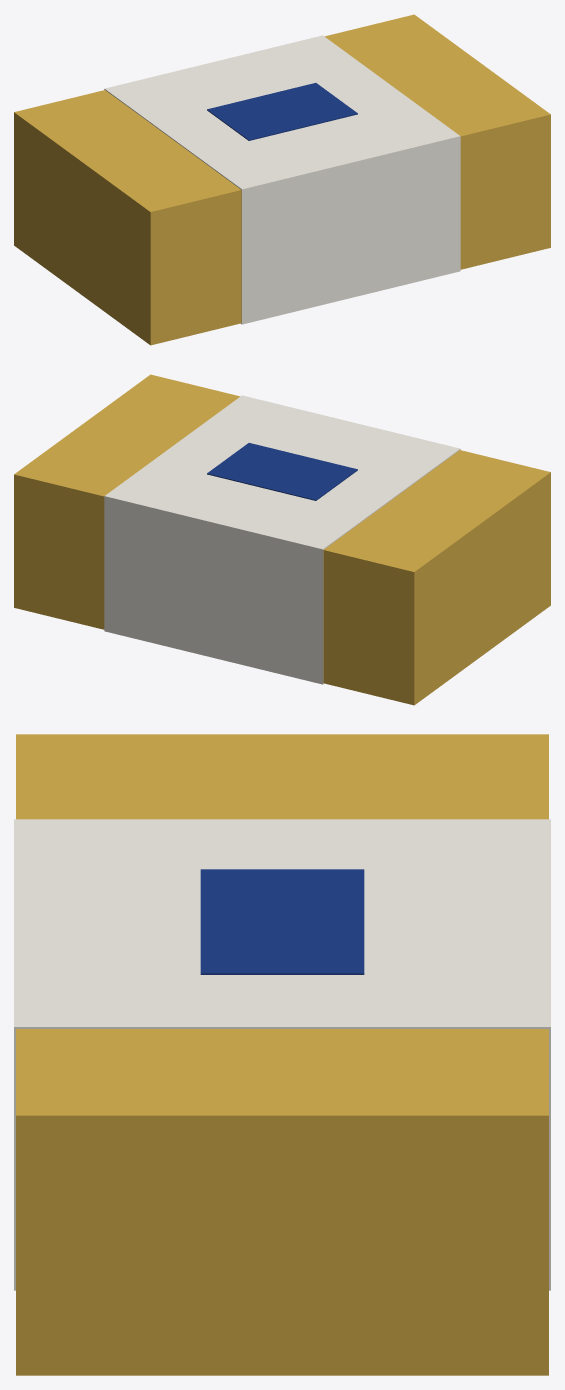
File: g-butter.glb
The picture shows the model from 3 angles, top to bottom: view 1: azimuth 30°, elevation 25°; view 2: azimuth 150°, elevation 25°; view 3: azimuth 270°, elevation 25°; orthographic projection. The views are drawn at different scales.
Visible parts, largest first — view 1: g_butter; view 2: g_butter; view 3: g_butter.
Part boxes in pixels (x1,y1,x2,y2): g_butter: (14, 14, 550, 345); g_butter: (14, 374, 550, 705); g_butter: (14, 734, 550, 1375).
Size of the model in its own units: 0.11 by 0.036 by 0.0655.
